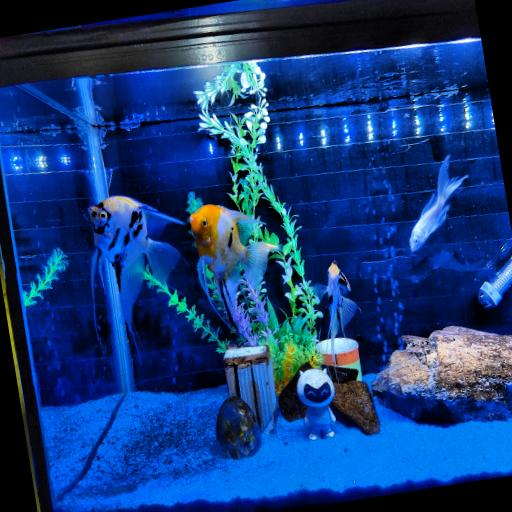Fish: (89, 196, 184, 330), (190, 205, 278, 327), (410, 155, 468, 251), (315, 261, 357, 365)
